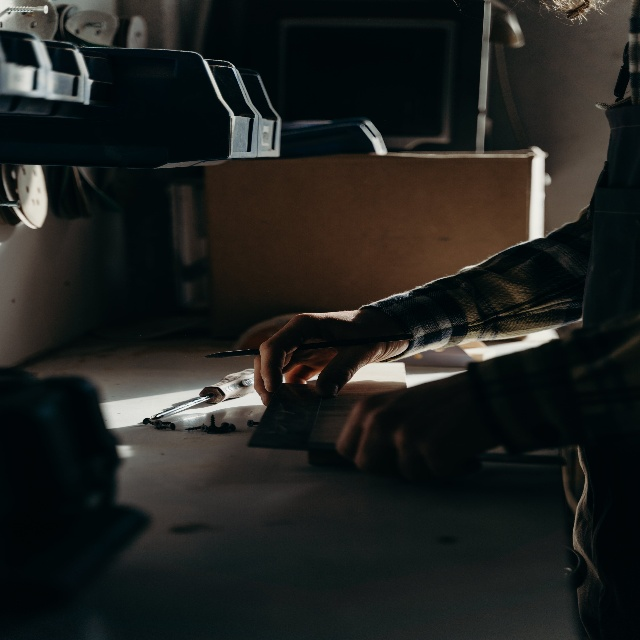Sin_guantes: (337, 384, 487, 481), (251, 305, 384, 402)
